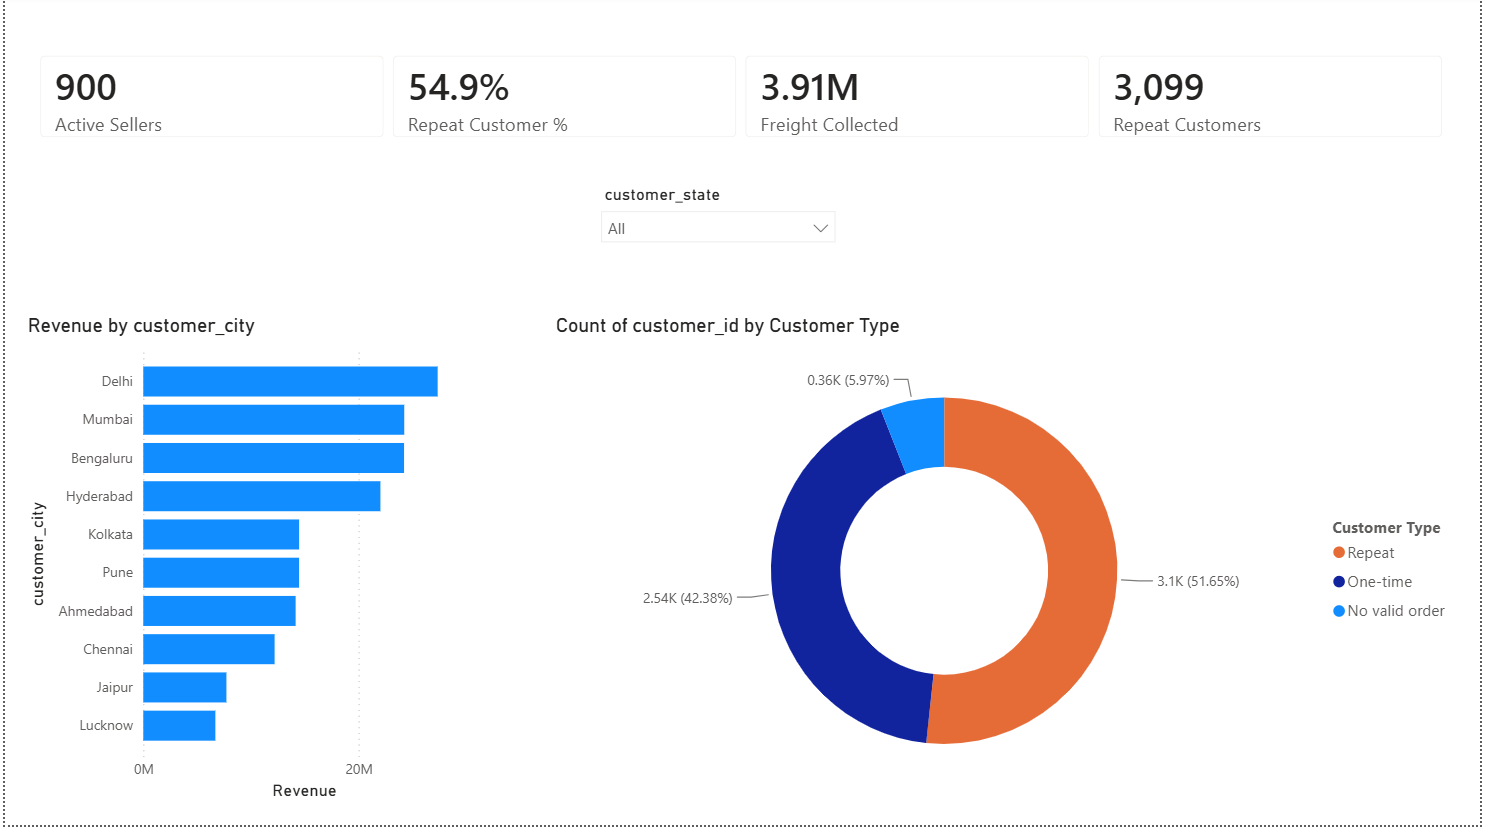

Layout of this report page (visuals, bound fields, positions):
{"tool":"powerbi","page":{"name":"Page 3","canvas":[1280,720],"ordinal":2},"visuals":[{"type":"cardVisual","fields":{"Data":["sellers.Active Sellers","customers.Repeat Customer %","customers.Freight Collected","customers.Repeat Customers Full"]},"box":[13.5,35.5,1253.5,105.4],"z":0},{"type":"clusteredBarChart","fields":{"Category":["customers.customer_city"],"Y":["orders.Revenue"]},"box":[15.2,277.2,402.3,426],"z":1000},{"type":"donutChart","fields":{"Category":["customers.Customer Type"],"Y":["CountNonNull(customers.customer_id)"]},"box":[473.4,277.2,794.6,426],"z":2000},{"type":"slicer","fields":{"Values":["customers.customer_state"]},"box":[507.3,159.3,223,98],"z":3000}]}

Visuals, with their boxes in screenshot pixels (x1, y1, x2, y2), scaled from the page's 1280x720 canvas onto the 1485x830 screenshot:
cardVisual - sellers.Active Sellers x customers.Repeat Customer %: 16, 41, 1470, 162
clusteredBarChart - customers.customer_city x orders.Revenue: 18, 320, 484, 811
donutChart - customers.Customer Type x CountNonNull(customers.customer_id): 549, 320, 1471, 811
slicer - customers.customer_state: 589, 184, 847, 297
